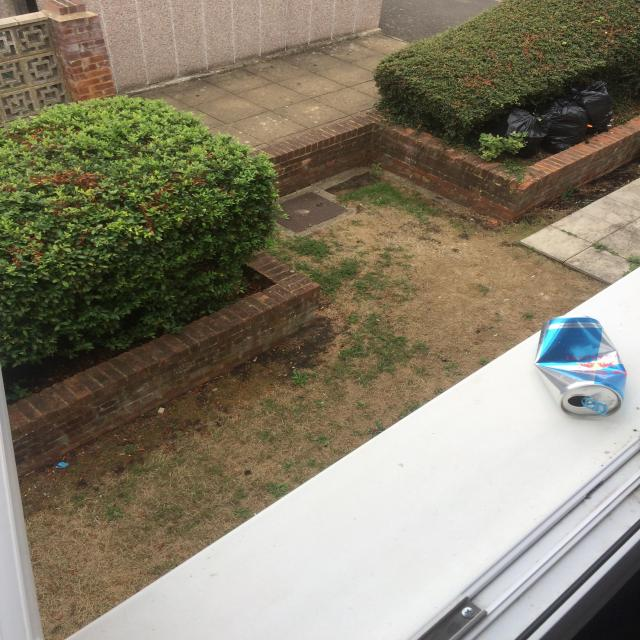Drink can: (533, 315, 627, 420)
Garbage bag: (539, 98, 588, 154), (499, 107, 551, 159), (563, 81, 613, 135)
Pop tab: (581, 397, 608, 415)
